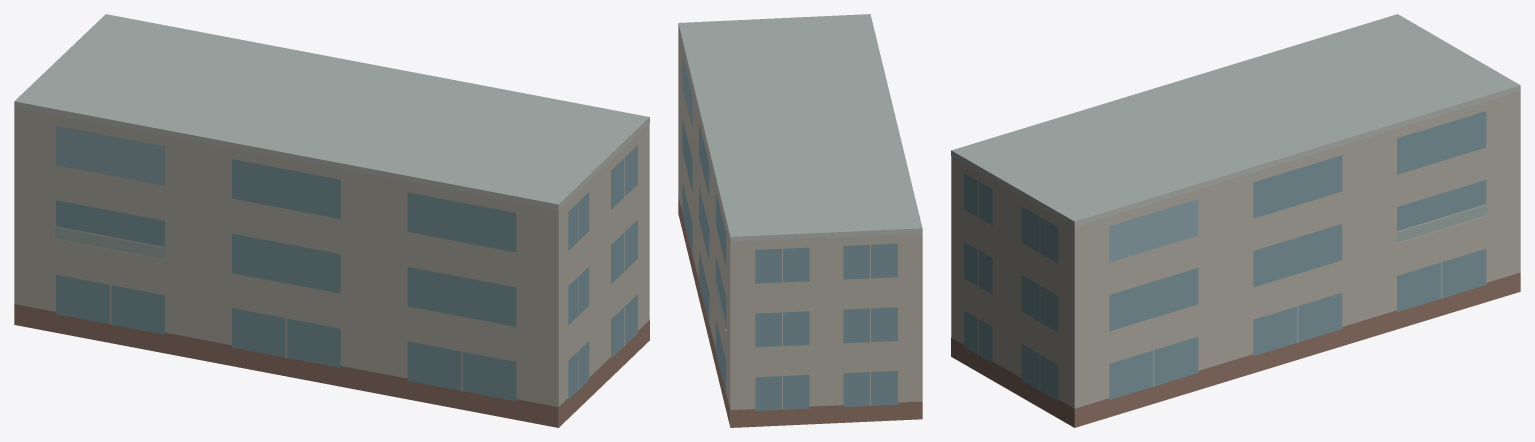
File: survey-upis-32774847.glb
3 views of the same model, side by side, from view 1: azimuth 30°, elevation 25°; view 2: azimuth 150°, elevation 25°; view 3: azimuth 270°, elevation 25° (orthographic). The views are drawn at different scales.
Visible parts, largest first — view 1: survey-upis-32774847.tmp; view 2: survey-upis-32774847.tmp; view 3: survey-upis-32774847.tmp.
Part boxes in pixels (x1,y1,x2,y2): survey-upis-32774847.tmp: (14,14,649,427); survey-upis-32774847.tmp: (678,14,922,427); survey-upis-32774847.tmp: (951,14,1520,427).
Bounding box in the file's own units: 19.75 × 9.15 × 22.9.
